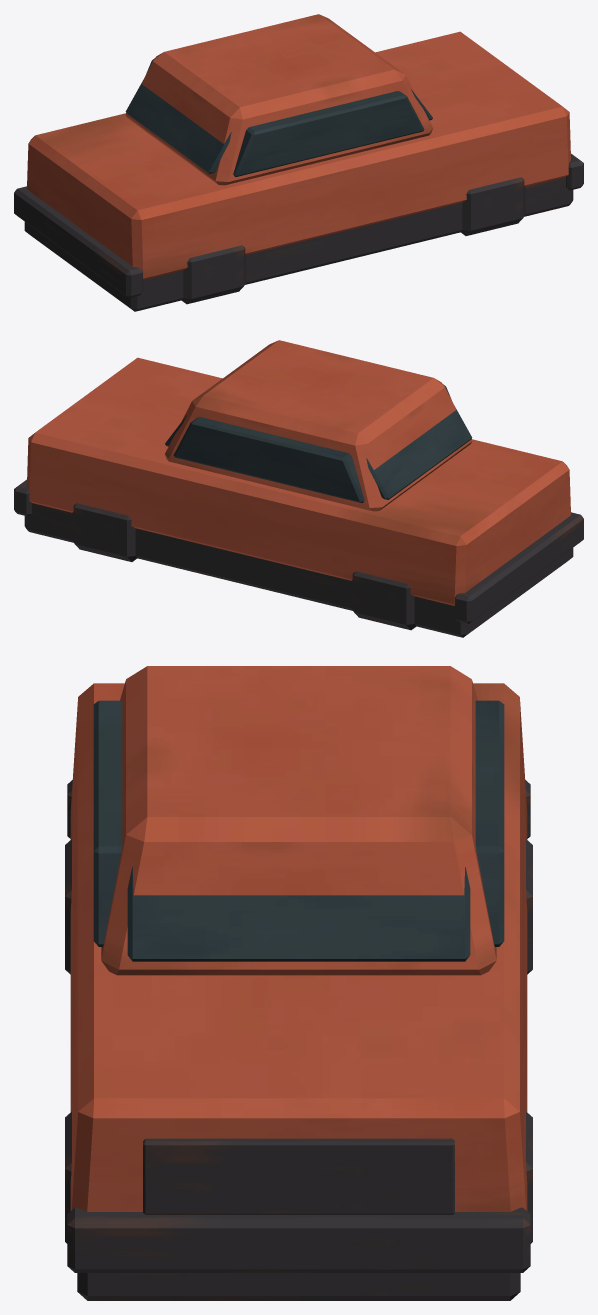
Rendered from car-sedan.glb.
The picture shows the model from 3 angles, top to bottom: view 1: azimuth 30°, elevation 25°; view 2: azimuth 150°, elevation 25°; view 3: azimuth 270°, elevation 25°; orthographic projection. The views are drawn at different scales.
Parts seen in each view (by area): view 1: car_sedan; view 2: car_sedan; view 3: car_sedan.
Part boxes in pixels (x1,y1,x2,y2): car_sedan: [14, 14, 583, 311]; car_sedan: [14, 340, 583, 637]; car_sedan: [65, 666, 532, 1300].
Size of the model in its own units: 4.2 by 1.48 by 1.86.
Materials: 1 (1 with a texture image).
